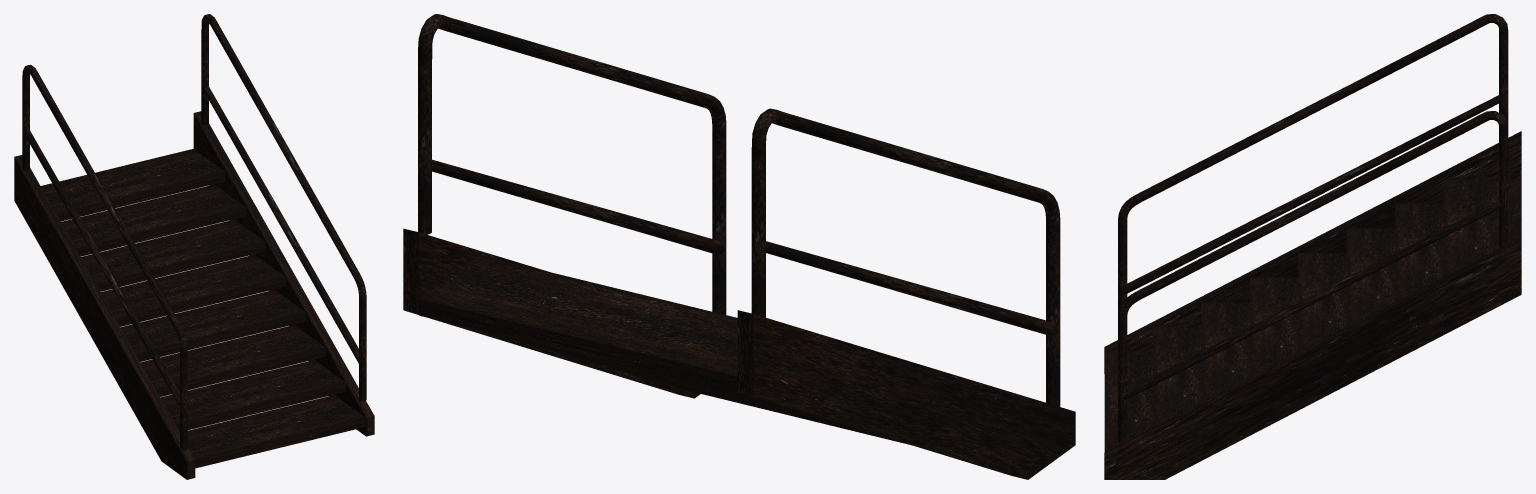
The model's file is textured_stairs.fbx.
3 views of the same model, side by side, from view 1: azimuth 30°, elevation 25°; view 2: azimuth 150°, elevation 25°; view 3: azimuth 270°, elevation 25° (orthographic). The views are drawn at different scales.
Parts seen in each view (by area): view 1: polySurface95, polySurface86, polySurface87, polySurface93, polySurface88, polySurface89, polySurface90, polySurface91, polySurface92, polySurface94, polySurface98, polySurface97 (+2 smaller); view 2: polySurface95, polySurface93, polySurface98, polySurface97, polySurface94, polySurface96, polySurface99; view 3: polySurface94, polySurface95, polySurface98, polySurface97, polySurface93, polySurface91, polySurface88, polySurface89, polySurface87, polySurface92, polySurface90, polySurface99 (+2 smaller).
Boxes of the visible parts, left/top/right/bottom form: polySurface95: left=14, top=155, right=195, bottom=479; polySurface86: left=187, top=395, right=365, bottom=468; polySurface87: left=160, top=360, right=345, bottom=431; polySurface93: left=40, top=149, right=225, bottom=221; polySurface88: left=140, top=325, right=325, bottom=396; polySurface89: left=120, top=289, right=305, bottom=361; polySurface90: left=100, top=254, right=285, bottom=326; polySurface91: left=81, top=219, right=265, bottom=291; polySurface92: left=61, top=184, right=245, bottom=256; polySurface94: left=193, top=111, right=374, bottom=436; polySurface98: left=201, top=14, right=366, bottom=401; polySurface97: left=22, top=64, right=187, bottom=450; polySurface95: left=737, top=310, right=1075, bottom=479; polySurface93: left=419, top=255, right=738, bottom=393; polySurface98: left=418, top=14, right=726, bottom=314; polySurface97: left=751, top=108, right=1060, bottom=406; polySurface94: left=403, top=228, right=700, bottom=398; polySurface96: left=766, top=241, right=1058, bottom=335; polySurface99: left=432, top=159, right=724, bottom=254; polySurface94: left=1104, top=237, right=1521, bottom=479; polySurface95: left=1104, top=131, right=1521, bottom=373; polySurface98: left=1118, top=111, right=1508, bottom=442; polySurface97: left=1118, top=14, right=1508, bottom=314; polySurface93: left=1443, top=179, right=1521, bottom=276; polySurface91: left=1346, top=228, right=1395, bottom=326; polySurface88: left=1201, top=302, right=1249, bottom=401; polySurface89: left=1250, top=277, right=1298, bottom=376; polySurface87: left=1153, top=327, right=1201, bottom=427; polySurface92: left=1395, top=203, right=1443, bottom=301; polySurface90: left=1298, top=253, right=1346, bottom=351; polySurface99: left=1122, top=201, right=1501, bottom=399.
Size of the model in its own units: 220 by 339 by 350.
1 material, 1 textured.
